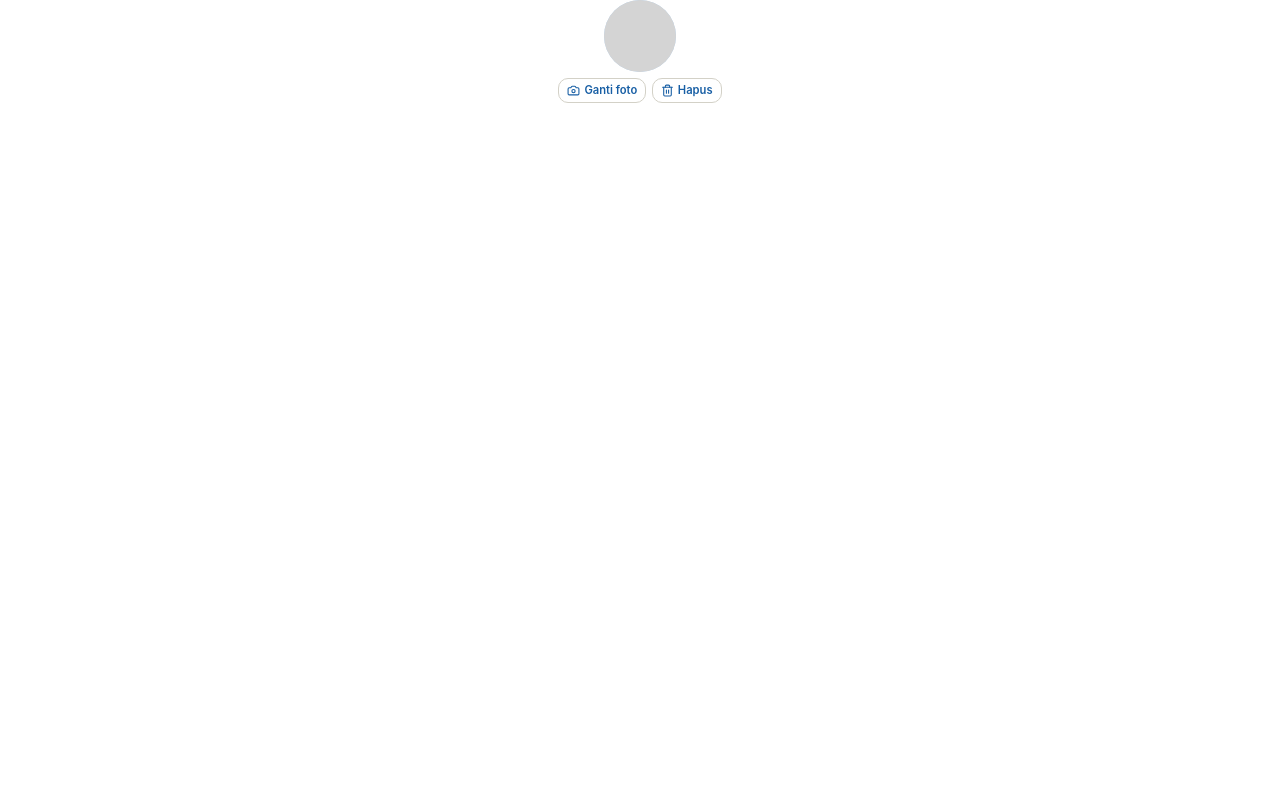
Test: ProfilePhoto › opens the camera instead of a file picker to request a new photo
Click the button "Ganti foto": click(602, 90) x1=558 y1=78 x2=646 y2=103
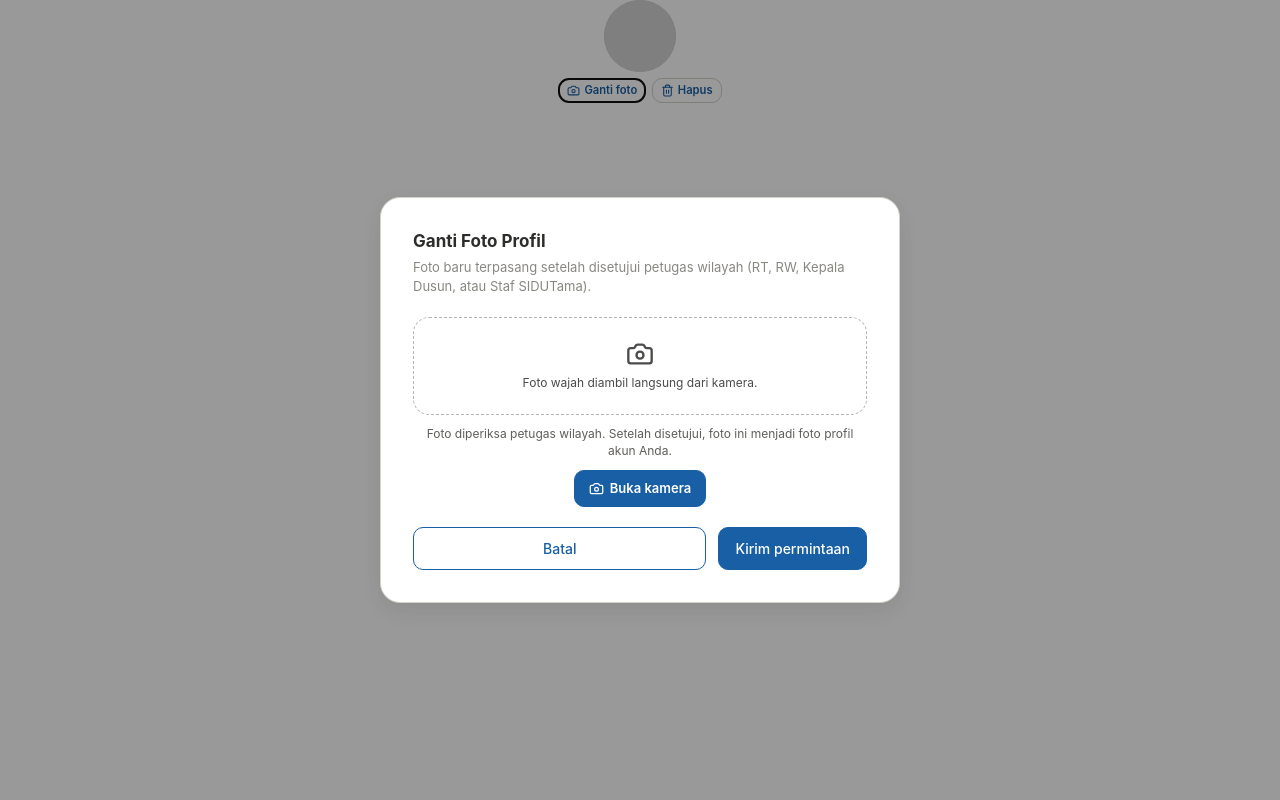
Check: the button "Buka kamera" is shown, box x1=574 y1=470 x2=706 y2=507
Check: the button "Kirim permintaan" is disabled, box x1=718 y1=527 x2=867 y2=570
